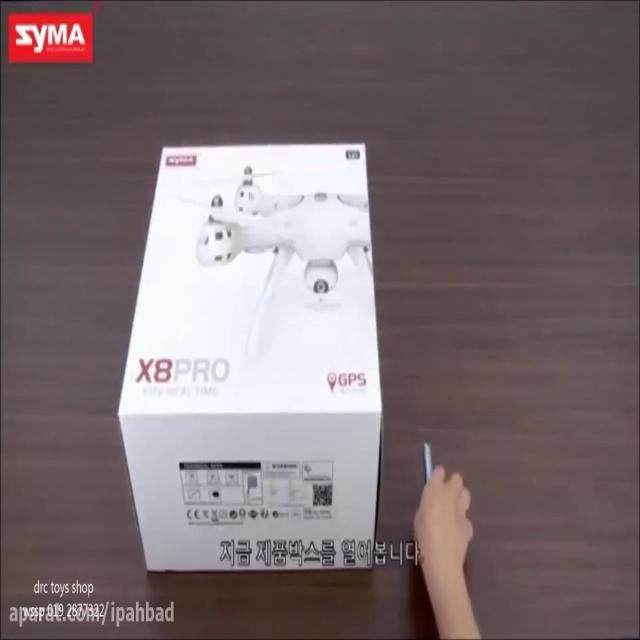drone: (173, 160, 375, 348)
